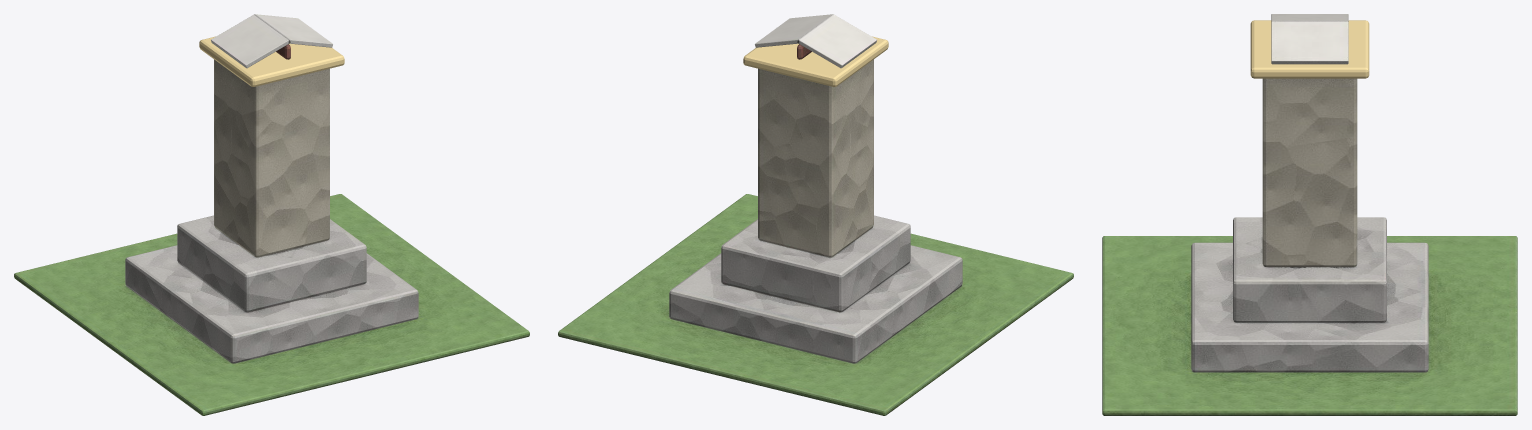
The model's file is buch_sachbuch.glb.
3 views of the same model, side by side, from view 1: azimuth 30°, elevation 25°; view 2: azimuth 150°, elevation 25°; view 3: azimuth 270°, elevation 25° (orthographic). The views are drawn at different scales.
Parts seen in each view (by area): view 1: buch_sachbuch, buch_sachbuch_details; view 2: buch_sachbuch, buch_sachbuch_details; view 3: buch_sachbuch, buch_sachbuch_details.
Boxes of the visible parts, left/top/right/bottom form: buch_sachbuch: left=14, top=14, right=529, bottom=415; buch_sachbuch_details: left=199, top=36, right=344, bottom=86; buch_sachbuch: left=558, top=14, right=1073, bottom=415; buch_sachbuch_details: left=743, top=36, right=888, bottom=86; buch_sachbuch: left=1102, top=14, right=1517, bottom=415; buch_sachbuch_details: left=1250, top=20, right=1369, bottom=78.
Size of the model in its own units: 0.7 by 0.5729 by 0.7.
2 materials, 1 textured.
